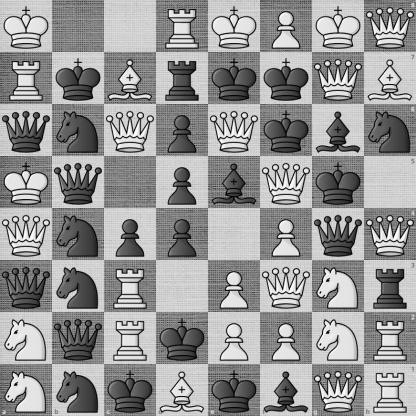B: (156, 364, 209, 416), (364, 52, 416, 104), (105, 53, 156, 104)
K: (1, 1, 52, 52), (1, 157, 52, 208), (209, 1, 260, 52), (313, 1, 364, 52)
N: (0, 364, 52, 416), (1, 313, 52, 364), (313, 261, 364, 312), (313, 313, 364, 364)
P: (209, 261, 260, 312), (209, 313, 260, 364), (261, 1, 312, 52), (261, 209, 312, 260), (261, 313, 312, 364)
Q: (312, 364, 364, 416), (364, 0, 416, 52), (364, 209, 416, 260), (1, 209, 52, 260), (105, 105, 156, 156), (209, 105, 260, 156), (261, 157, 312, 208), (261, 261, 312, 312), (313, 53, 364, 104)
R: (364, 312, 416, 364), (364, 364, 416, 416), (1, 53, 52, 104), (105, 261, 156, 312), (105, 313, 156, 364), (157, 1, 208, 52)
b: (260, 364, 312, 416), (209, 157, 260, 208), (313, 105, 364, 156)
board: (0, 0, 415, 415)
k: (104, 364, 156, 416), (209, 364, 260, 416), (53, 53, 104, 104), (157, 313, 208, 364), (209, 53, 260, 104), (261, 53, 312, 104), (261, 105, 312, 156), (313, 157, 364, 208)
n: (52, 364, 104, 416), (364, 104, 416, 156), (53, 105, 104, 156), (53, 209, 104, 260), (53, 261, 104, 312)
p: (105, 209, 156, 260), (157, 105, 208, 156), (157, 157, 208, 208), (157, 209, 208, 260)
q: (1, 105, 52, 156), (1, 261, 52, 312), (53, 157, 104, 208), (53, 313, 104, 364), (313, 209, 364, 260)
r: (364, 260, 416, 312), (157, 53, 208, 104)
